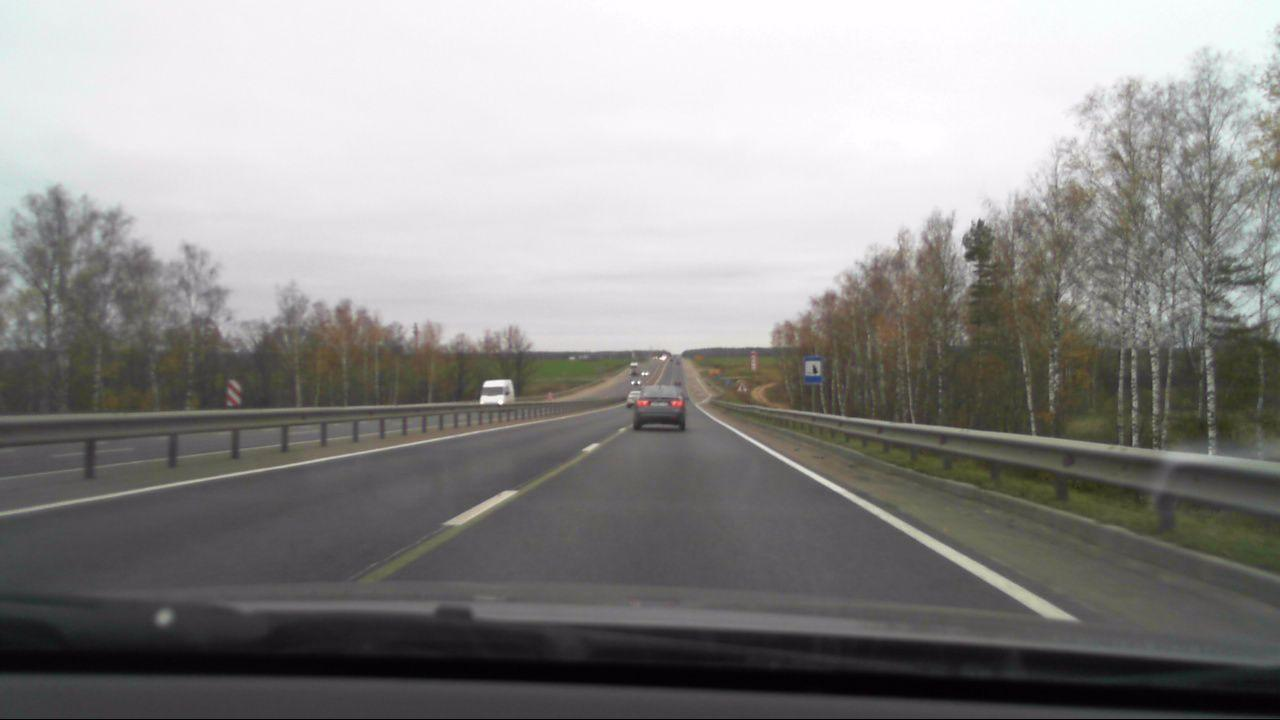7_11: (803, 357, 821, 385)
